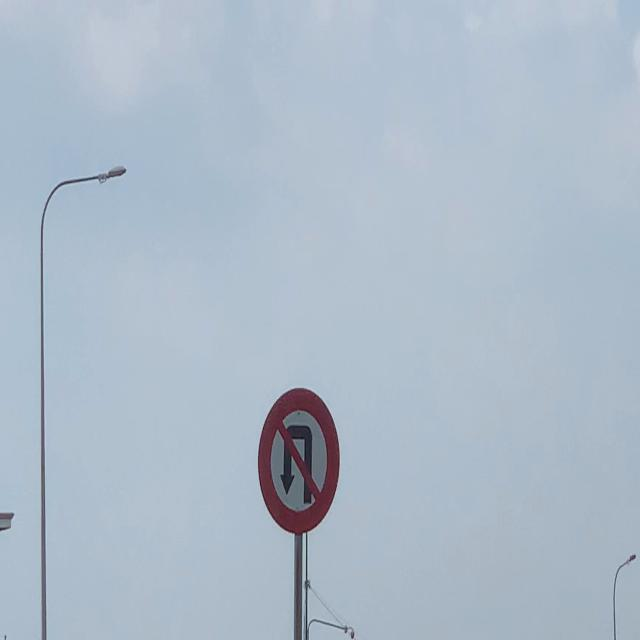Cam quay dau xe: (257, 386, 340, 535)
